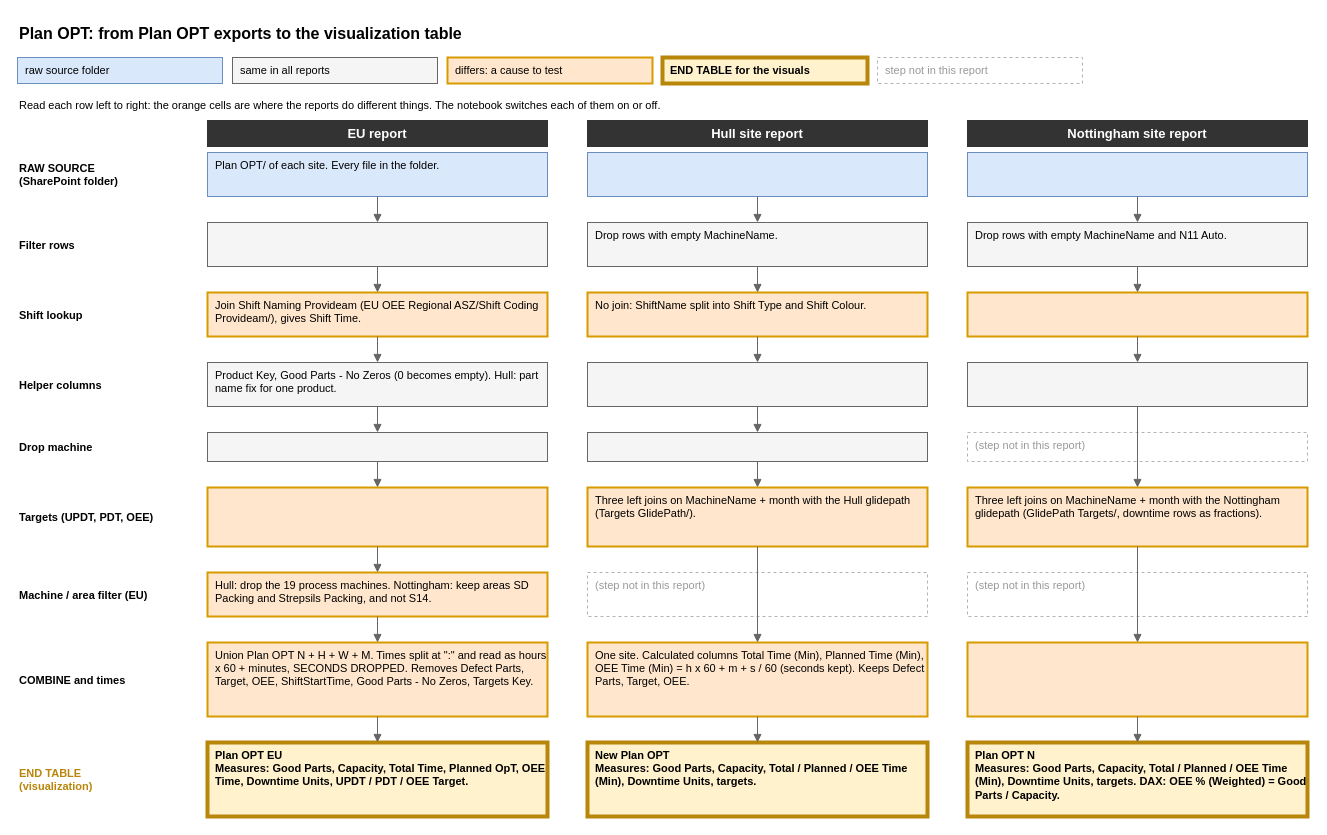
Image size: 1327x835. Some labels were removed from this diagram. Each missing label, with the box of its shape:
Drop GT4 - Auto.: (586, 432, 928, 462)
Drop rows with empty MachineName. Nottingham also drops N11 Auto.: (206, 222, 548, 266)
General/Power BI/OEE Board A Sz/Plan OPT/. Every file in the folder.: (586, 152, 928, 196)
Hull: drop GT4 - Auto.: (206, 432, 548, 462)
Join Shift Naming N (EU OEE Dashboard ASz/Shift Pattern Naming/).: (966, 291, 1308, 337)
One site. Same calculated columns as Hull site (seconds kept), plus Week, Year.: (966, 641, 1308, 717)
PowerBI/EU OEE Dashboard ASz/Plan OPT/. Every file in the folder.: (966, 152, 1308, 196)
Same, with the part name fix.: (586, 362, 928, 406)
Same.: (966, 362, 1308, 406)
Three left joins on machine-site + month with the regional glidepath (percent).: (206, 486, 548, 547)
